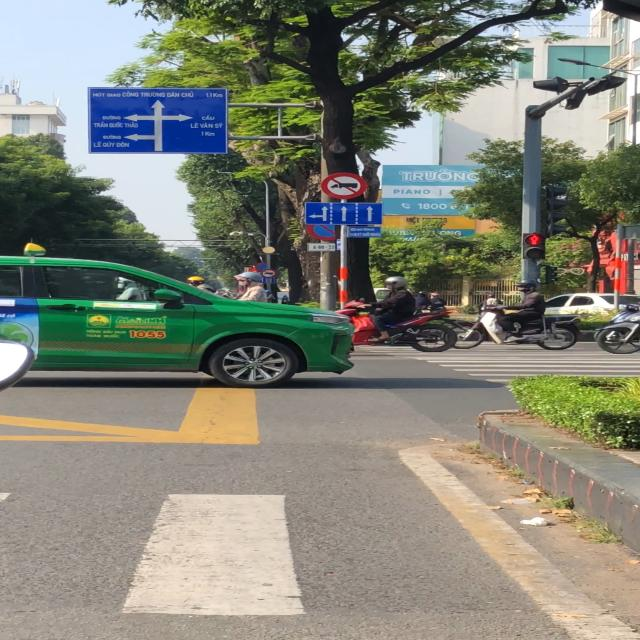Bien bao cam xe so-mi ro-mooc: (319, 172, 370, 201)
